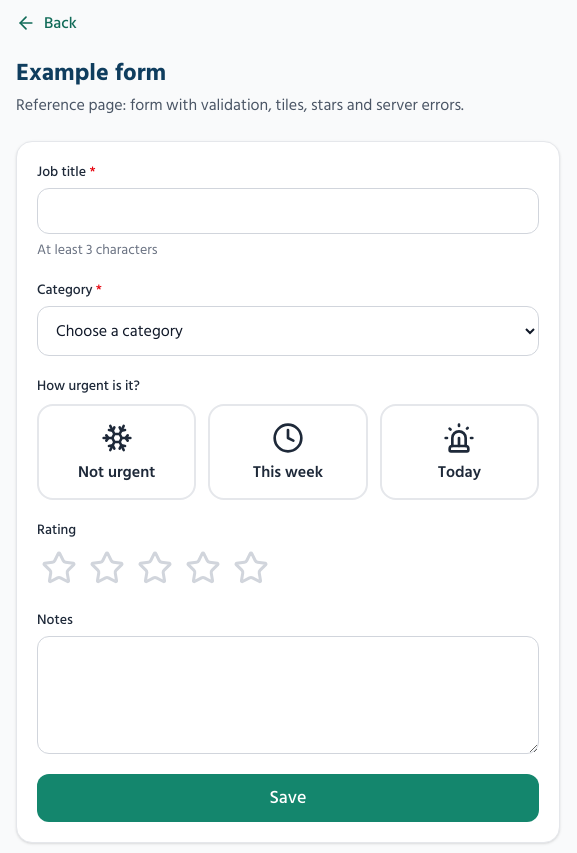
it: ExampleFormPage › shows validation errors when submitted empty
This screenshot has width=577, height=853.
Click the button "Save": (288, 798) [37,774,539,822]
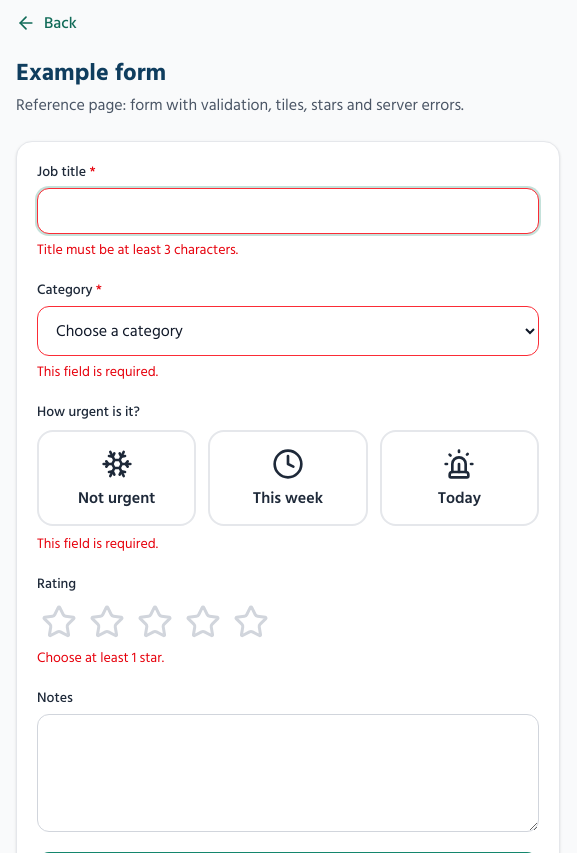
Check: the text "Title must be at least 3 characters." is shown, box [37,238,238,261]
Check: the text "Choose at least 1 star." is shown, box [37,646,164,669]
